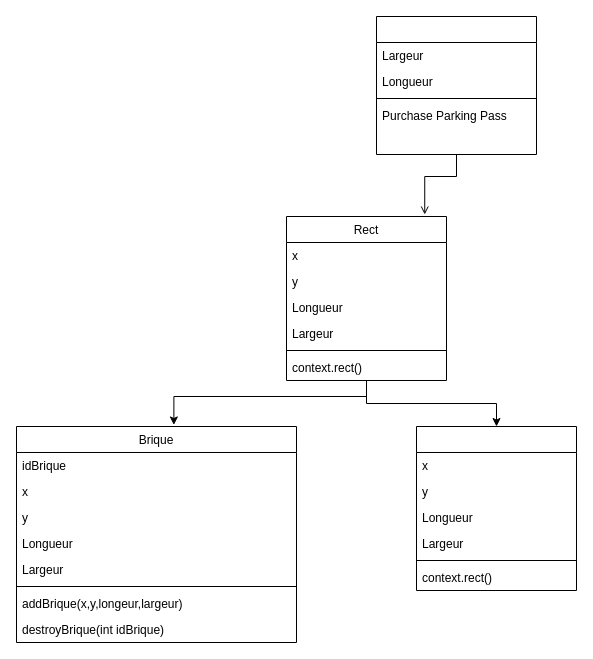
Some shapes in this 593 by 659 pixel diagram are drawn without their labels. Each missing label, with the box of its shape:
Jeu: (376, 16, 536, 154)
Murs: (416, 426, 576, 590)
